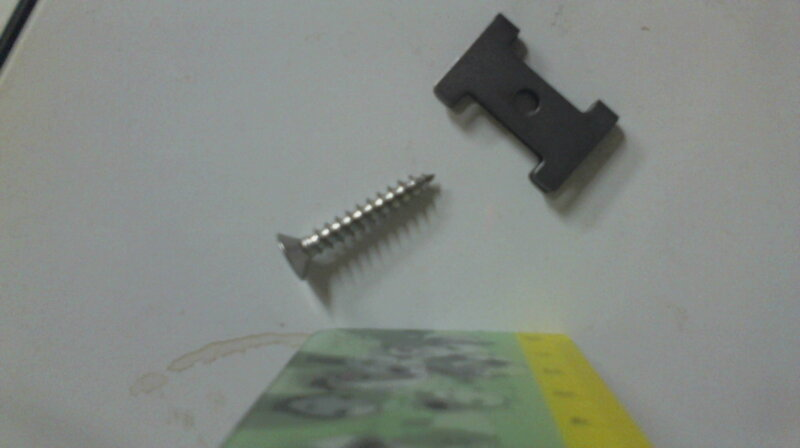O002: (428, 10, 621, 197)
S001: (269, 168, 447, 287)
